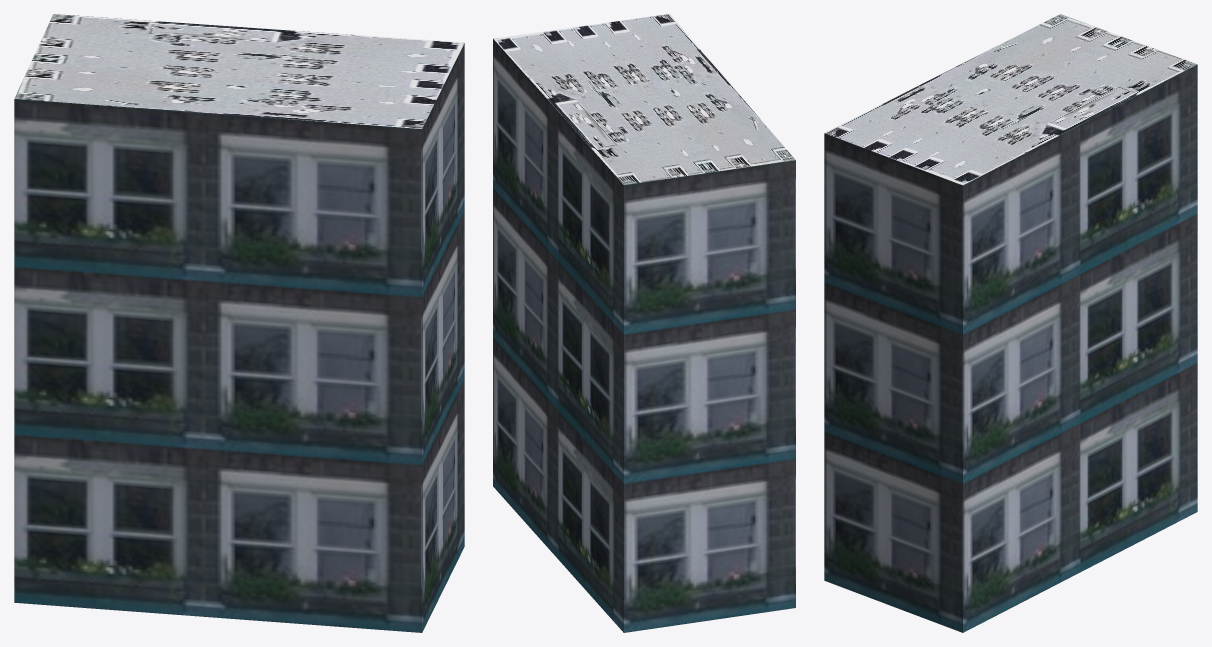
Rendered from ResTex__4690.fbx.
3 renders of one model, left to right at view 1: azimuth 30°, elevation 25°; view 2: azimuth 150°, elevation 25°; view 3: azimuth 270°, elevation 25°, orthographic. The views are drawn at different scales.
Visible parts, largest first — view 1: CityEngineMaterial_11_m, CityEngineMaterial_m; view 2: CityEngineMaterial_11_m, CityEngineMaterial_m; view 3: CityEngineMaterial_11_m, CityEngineMaterial_m.
Part boxes in pixels (left/top/right/bottom): CityEngineMaterial_11_m: left=14, top=43, right=464, bottom=632; CityEngineMaterial_m: left=14, top=14, right=464, bottom=128; CityEngineMaterial_11_m: left=493, top=39, right=795, bottom=632; CityEngineMaterial_m: left=493, top=14, right=795, bottom=184; CityEngineMaterial_11_m: left=824, top=64, right=1197, bottom=632; CityEngineMaterial_m: left=824, top=14, right=1196, bottom=185.
Size of the model in its own units: 7.39 by 9 by 6.8.
2 materials, 2 textured.
